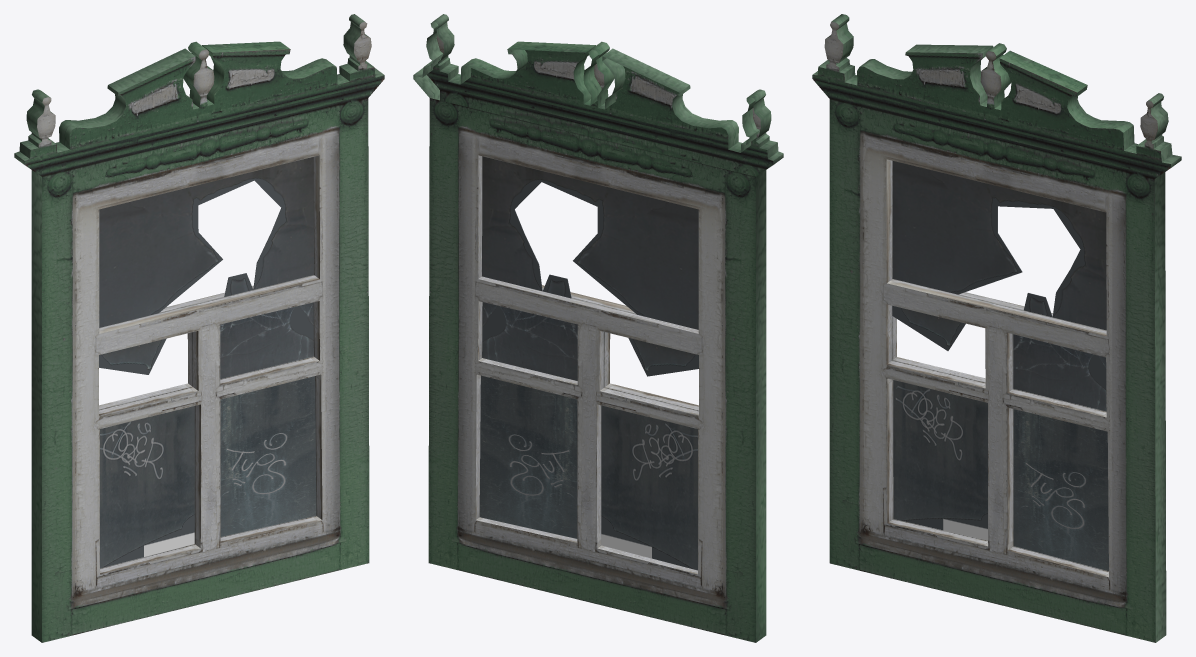
The model's file is Windows_01_2.FBX.
3 renders of one model, left to right at view 1: azimuth 30°, elevation 25°; view 2: azimuth 150°, elevation 25°; view 3: azimuth 330°, elevation 25°, orthographic.
Parts seen in each view (by area): view 1: Windows_01_2, Windows_01_2glass (×5); view 2: Windows_01_2, Windows_01_2glass (×5); view 3: Windows_01_2, Windows_01_2glass (×5).
Boxes of the visible parts, box(x1,y1,x2,y2) form: Windows_01_2: box(14, 14, 384, 642); Windows_01_2glass (×5): box(99, 157, 316, 568); Windows_01_2: box(413, 14, 783, 642); Windows_01_2glass (×5): box(479, 156, 698, 570); Windows_01_2: box(812, 14, 1181, 642); Windows_01_2glass (×5): box(892, 161, 1108, 571).
Bounding box in the file's own units: 134 × 6.78 × 197.
Materials: 2 (2 with a texture image).
